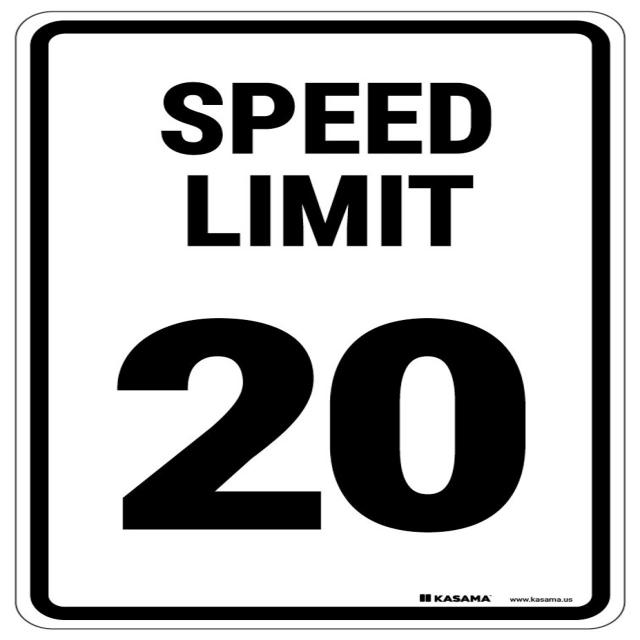speedLimit20: (14, 16, 627, 622)
